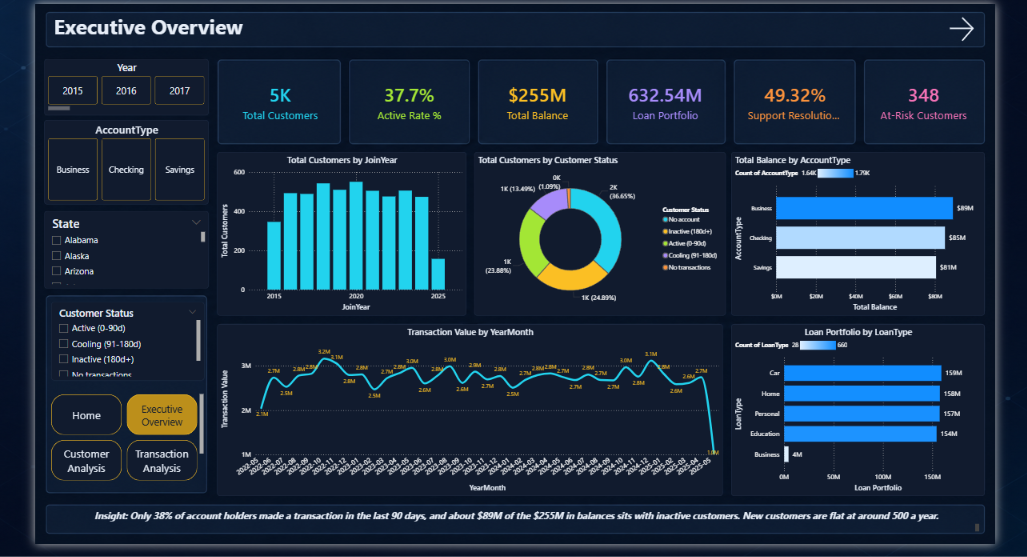

Layout of this report page (visuals, bound fields, positions):
{"tool":"powerbi","page":{"name":"Executive Overview","canvas":[1920,1080],"ordinal":1},"visuals":[{"type":"cardVisual","fields":{"Data":["_Measures.Total Customers"]},"box":[365,108.8,248.8,175],"z":0},{"type":"cardVisual","fields":{"Data":["_Measures.Total Balance"]},"box":[883.4,108.6,241.1,174.8],"z":1000},{"type":"cardVisual","fields":{"Data":["_Measures.Support Resolution %"]},"box":[1395.1,108.6,248.5,174.8],"z":2000},{"type":"cardVisual","fields":{"Data":["_Measures.Loan Portfolio"]},"box":[1143,108.6,237.4,174.8],"z":3000},{"type":"cardVisual","fields":{"Data":["_Measures.Active Rate %"]},"box":[629.5,108.6,237.4,174.8],"z":4000},{"type":"cardVisual","fields":{"Data":["_Measures.At-Risk Customers"]},"box":[1656.5,108.6,242.9,174.8],"z":5000},{"type":"clusteredColumnChart","fields":{"Y":["_Measures.Total Customers"],"Category":["dim_customers.JoinYear"]},"box":[364.3,295.7,498.6,327.1],"z":6000},{"type":"donutChart","fields":{"Y":["_Measures.Total Customers"],"Category":["dim_customers.Customer Status"]},"box":[877.1,295.7,502.9,327.1],"z":7000},{"type":"clusteredBarChart","fields":{"Category":["dim_accounts.AccountType"],"Y":["_Measures.Total Balance"]},"box":[1392.9,295.7,507.1,327.1],"z":8000},{"type":"lineChart","fields":{"Category":["dim_date.YearMonth"],"Y":["_Measures.Transaction Value"]},"box":[364.3,640,1011.4,344.3],"z":9000},{"type":"clusteredBarChart","fields":{"Category":["fact_loans.LoanType"],"Y":["_Measures.Loan Portfolio"]},"box":[1392.9,640,507.1,344.3],"z":10000},{"type":"advancedSlicerVisual","fields":{"Values":["dim_date.Year"]},"box":[18,109,329,113],"z":11000},{"type":"advancedSlicerVisual","fields":{"Values":["dim_accounts.AccountType"]},"box":[18,232,329,169],"z":12000},{"type":"slicer","fields":{"Values":["dim_customers.State"]},"box":[18,414.2,329,154.8],"z":13000},{"type":"slicer","fields":{"Values":["dim_customers.Customer Status"]},"box":[31,595,306,157],"z":14000},{"type":"textbox","title":"Executive Overview","box":[31.3,16.6,1746.6,92],"z":15000},{"type":"pageNavigator","box":[31.3,780.4,305.5,178.5],"z":16000},{"type":"actionButton","box":[1821.4,19.5,69.9,60.7],"z":17000},{"type":"textbox","title":"Insight: Only 38% of account holders made a transaction in the last 90 days, and about $89M of the $255M in balances sits with inactive customers. New customers are flat at around 500 a year.","box":[31.3,1010.4,1860.7,49.7],"z":18000}]}

Visuals, with their boxes on the page's 1920x1080 design canvas (x1, y1, x2, y2). These are canvas units, not pixel positions in the 1027x557 screenshot, which may show the page scaled, cropped or inside an application window:
cardVisual - _Measures.Total Customers: bbox=(365, 109, 614, 284)
cardVisual - _Measures.Total Balance: bbox=(883, 109, 1124, 283)
cardVisual - _Measures.Support Resolution %: bbox=(1395, 109, 1644, 283)
cardVisual - _Measures.Loan Portfolio: bbox=(1143, 109, 1380, 283)
cardVisual - _Measures.Active Rate %: bbox=(630, 109, 867, 283)
cardVisual - _Measures.At-Risk Customers: bbox=(1656, 109, 1899, 283)
clusteredColumnChart - _Measures.Total Customers x dim_customers.JoinYear: bbox=(364, 296, 863, 623)
donutChart - _Measures.Total Customers x dim_customers.Customer Status: bbox=(877, 296, 1380, 623)
clusteredBarChart - dim_accounts.AccountType x _Measures.Total Balance: bbox=(1393, 296, 1900, 623)
lineChart - dim_date.YearMonth x _Measures.Transaction Value: bbox=(364, 640, 1376, 984)
clusteredBarChart - fact_loans.LoanType x _Measures.Loan Portfolio: bbox=(1393, 640, 1900, 984)
advancedSlicerVisual - dim_date.Year: bbox=(18, 109, 347, 222)
advancedSlicerVisual - dim_accounts.AccountType: bbox=(18, 232, 347, 401)
slicer - dim_customers.State: bbox=(18, 414, 347, 569)
slicer - dim_customers.Customer Status: bbox=(31, 595, 337, 752)
"Executive Overview" textbox: bbox=(31, 17, 1778, 109)
pageNavigator: bbox=(31, 780, 337, 959)
actionButton: bbox=(1821, 20, 1891, 80)
"Insight: Only 38% of account holders made a transaction in the last 90 days, and about $89M of the $255M in balances sits with inactive customers. New customers are flat at around 500 a year." textbox: bbox=(31, 1010, 1892, 1060)
